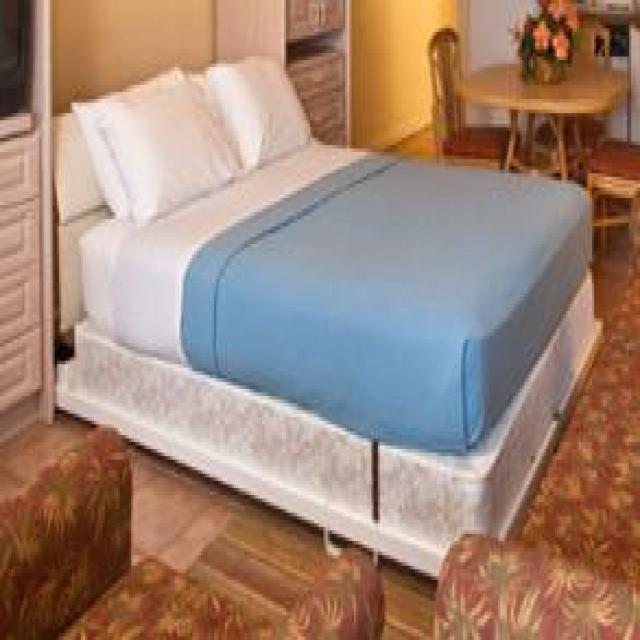bed: (50, 49, 601, 576)
table: (454, 50, 629, 180)
